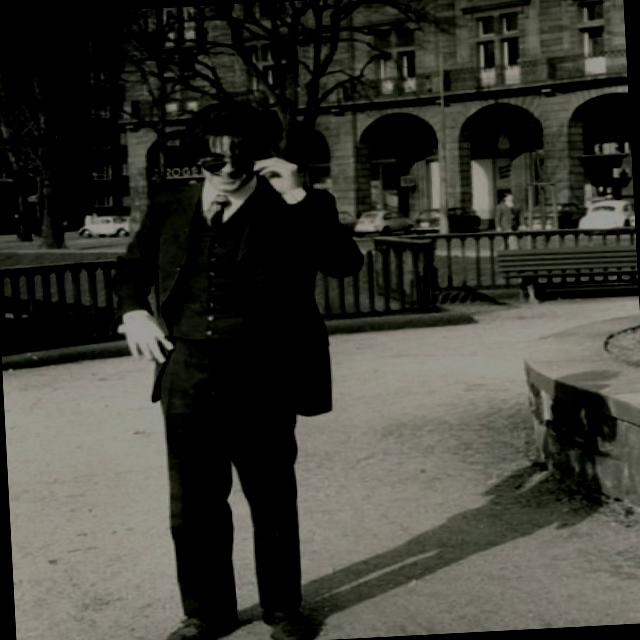Vehicle: (411, 206, 482, 237), (576, 198, 636, 230), (352, 208, 413, 238), (76, 215, 131, 239)
